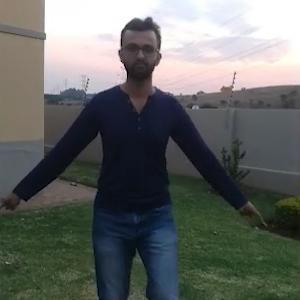land: (27, 36, 237, 297)
